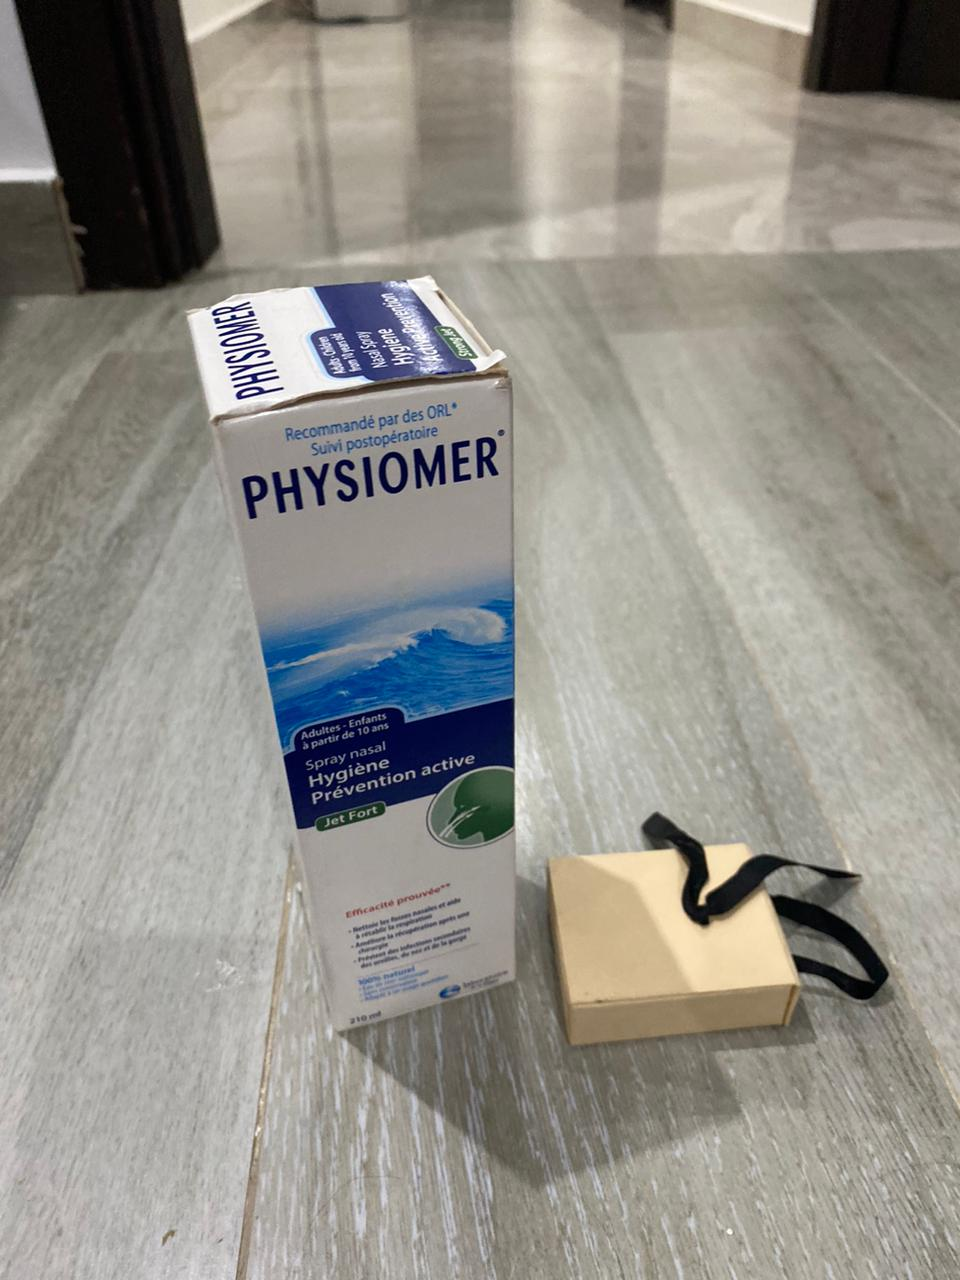Physiomer: (186, 270, 536, 1035)
Yellow Box: (545, 837, 809, 1060)
